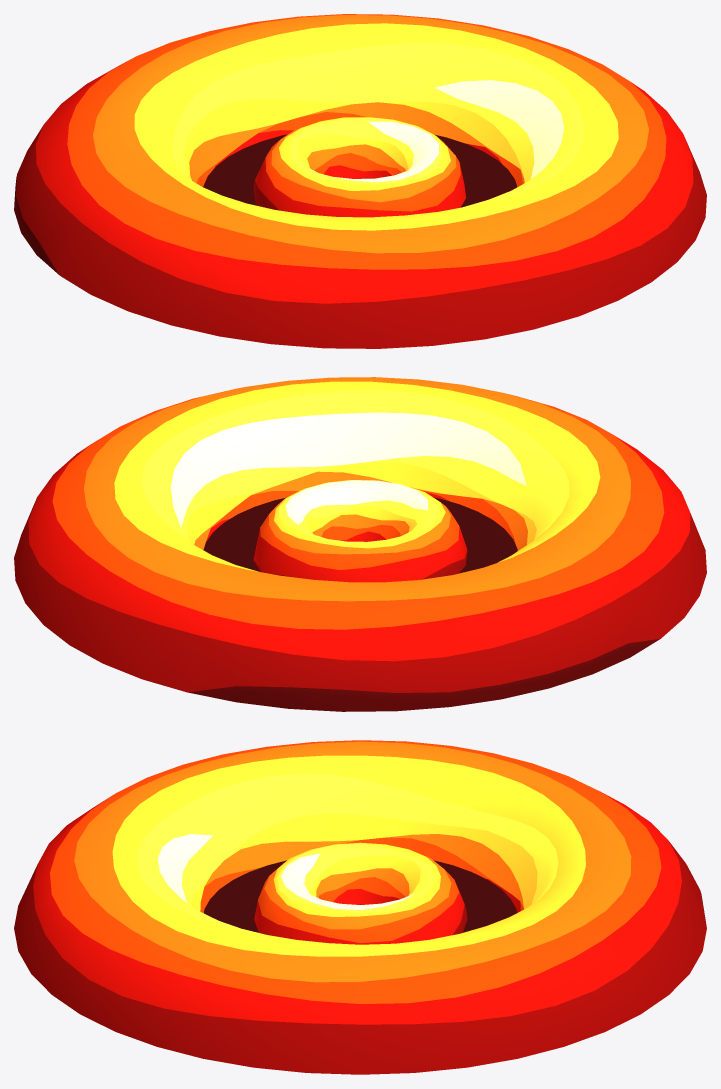
The model's file is shot_turret_157.glb.
3 views of the same model, one above another, from view 1: azimuth 30°, elevation 25°; view 2: azimuth 150°, elevation 25°; view 3: azimuth 270°, elevation 25° (orthographic).
Parts seen in each view (by area): view 1: shot_turret_157_ring0, shot_turret_157_ring1, shot_turret_157_membrane; view 2: shot_turret_157_ring0, shot_turret_157_ring1, shot_turret_157_membrane; view 3: shot_turret_157_ring0, shot_turret_157_ring1, shot_turret_157_membrane.
Boxes of the visible parts, box(x1,y1,x2,y2) form: shot_turret_157_ring0: box(14, 14, 706, 348); shot_turret_157_ring1: box(253, 117, 465, 217); shot_turret_157_membrane: box(203, 134, 517, 207); shot_turret_157_ring0: box(14, 377, 706, 711); shot_turret_157_ring1: box(253, 480, 467, 582); shot_turret_157_membrane: box(203, 497, 517, 573); shot_turret_157_ring0: box(14, 740, 706, 1074); shot_turret_157_ring1: box(254, 842, 467, 944); shot_turret_157_membrane: box(204, 860, 516, 932).
Size of the model in its own units: 12.5 by 1.55 by 12.5.
